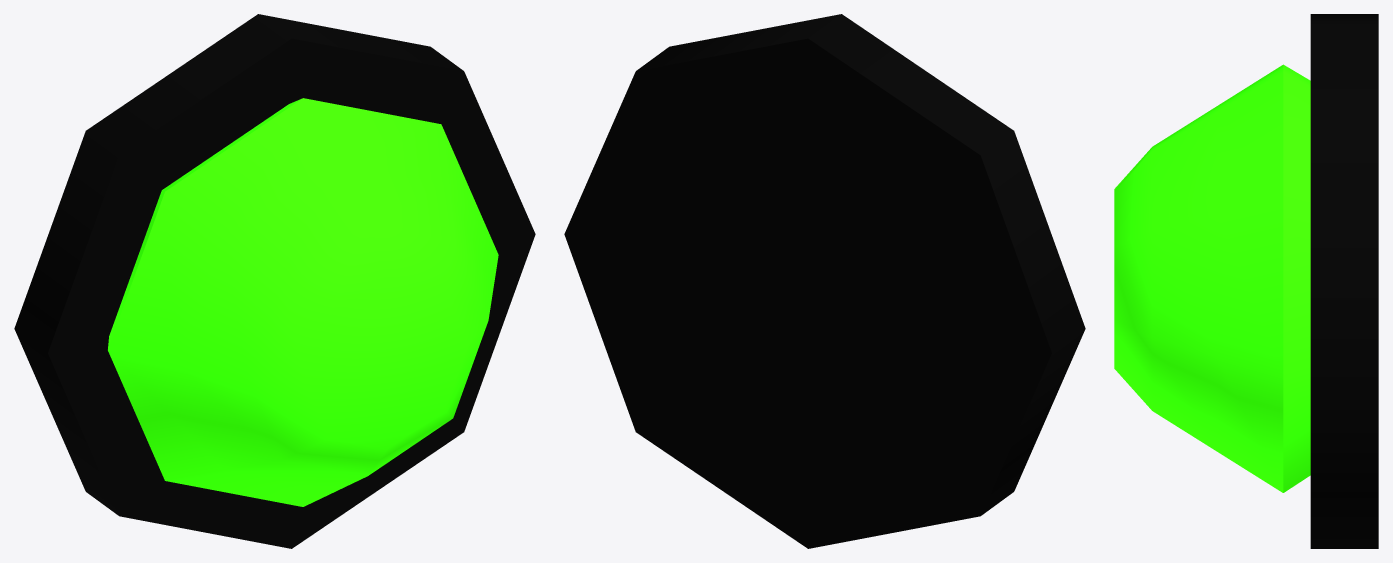
File: MonButton5.fbx
The picture shows the model from 3 angles, left to right: view 1: azimuth 30°, elevation 25°; view 2: azimuth 150°, elevation 25°; view 3: azimuth 270°, elevation 25°; orthographic projection.
Parts seen in each view (by area): view 1: MonButton5; view 2: MonButton5; view 3: MonButton5.
Boxes of the visible parts, x1=… form: MonButton5: x1=14, y1=14, x2=535, y2=548; MonButton5: x1=564, y1=14, x2=1085, y2=548; MonButton5: x1=1114, y1=14, x2=1378, y2=548.
Bounding box in the file's own units: 10.62 × 10.62 × 4.92.
